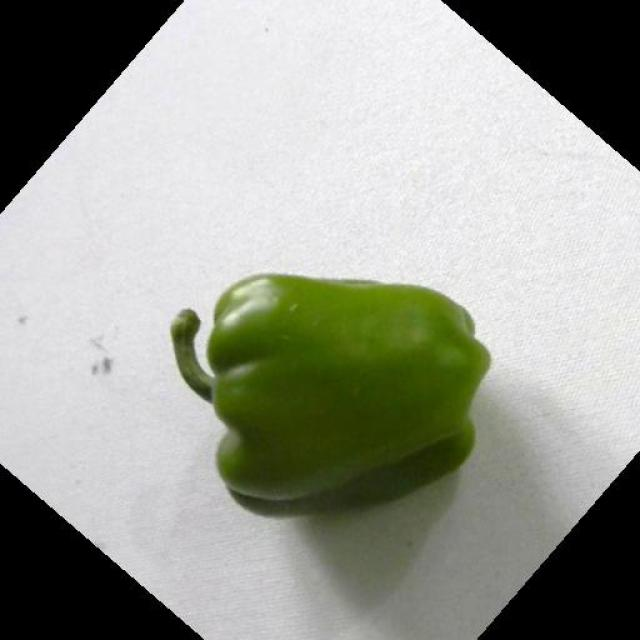Fresh_Capsicum: (183, 264, 479, 536)
